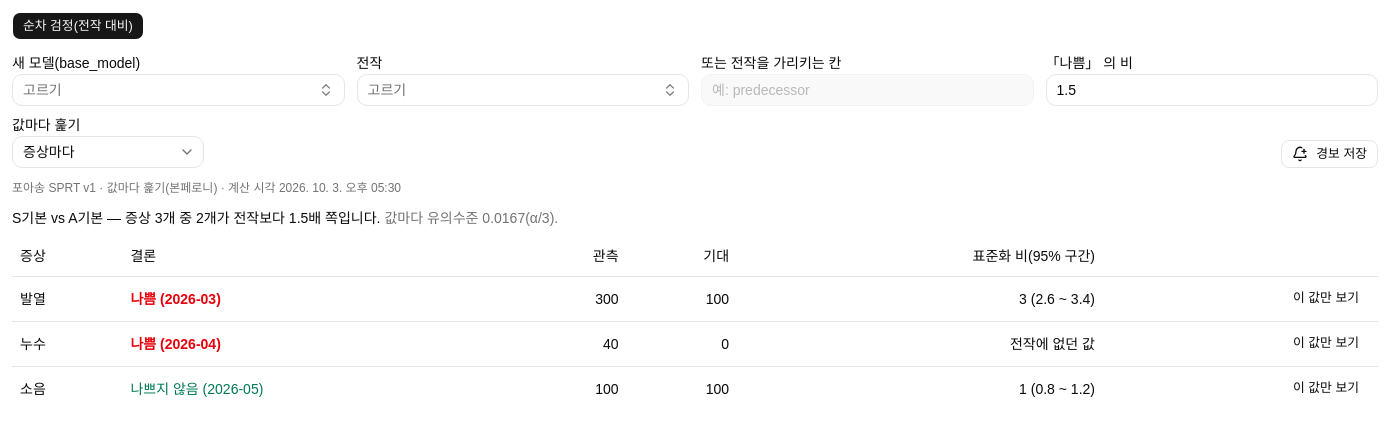
분석 탭 › 증상마다 훑은 순차 검정은 나빠진 증상부터 보이고, 한 값만 보기로 오간다
This screenshot has width=1390, height=427.
expect the text "나쁨 (2026-03)" is shown: met, box [122,276,516,321]
expect the text "전작에 없던 값" is shown: met, box [737,321,1103,366]
Click the button "이 값만 보기" in the row of "발열" at (1326, 298), box [1282,284,1370,312]
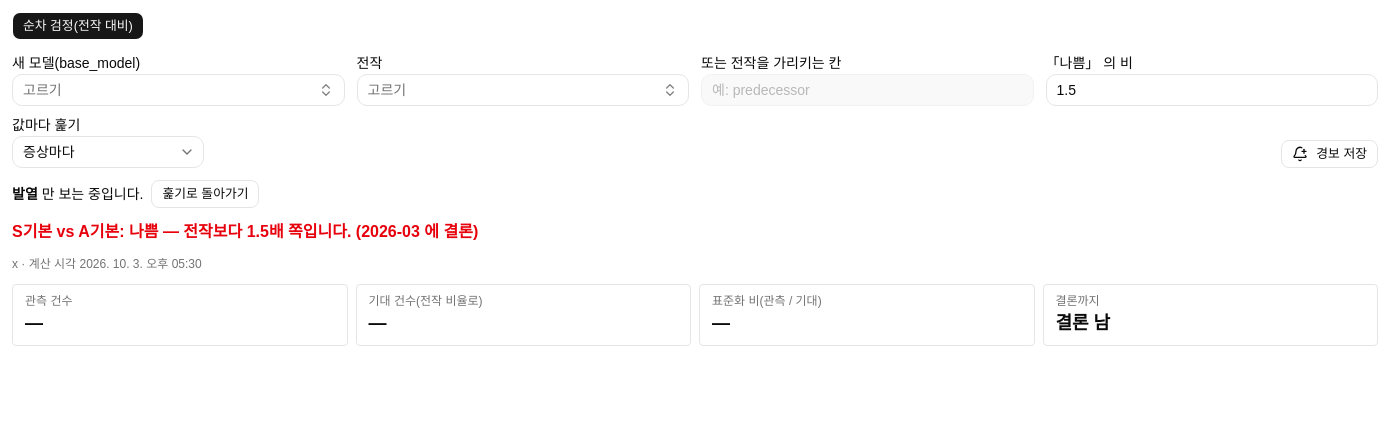
expect the text "발열 만 보는 중입니다." is shown: met, box [12,184,144,204]
Click the button "훑기로 돌아가기" at (206, 194), box [152,180,260,208]
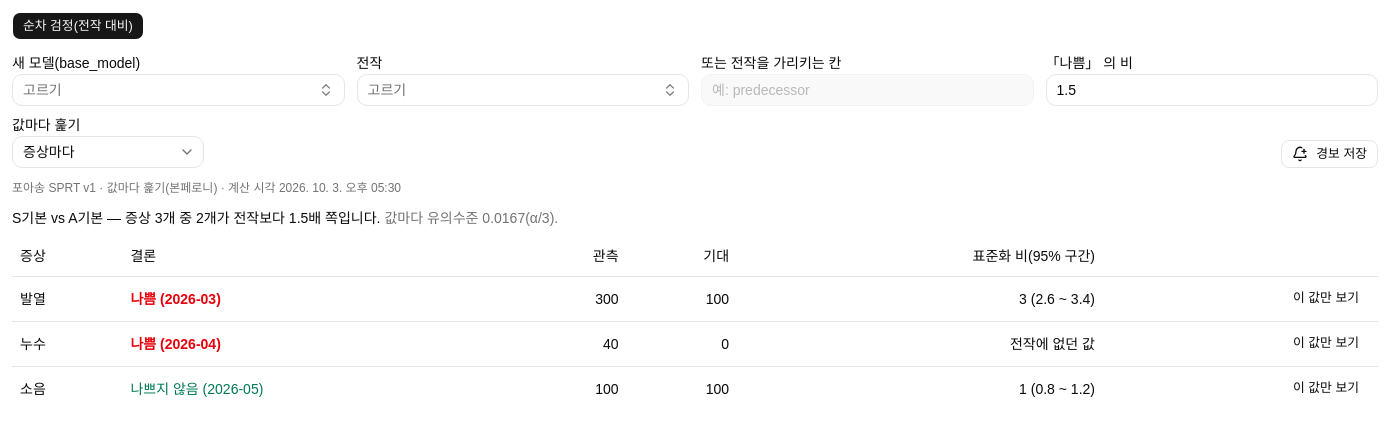
expect the element named "값마다 훑기" is shown: met, box [12,208,1378,410]
